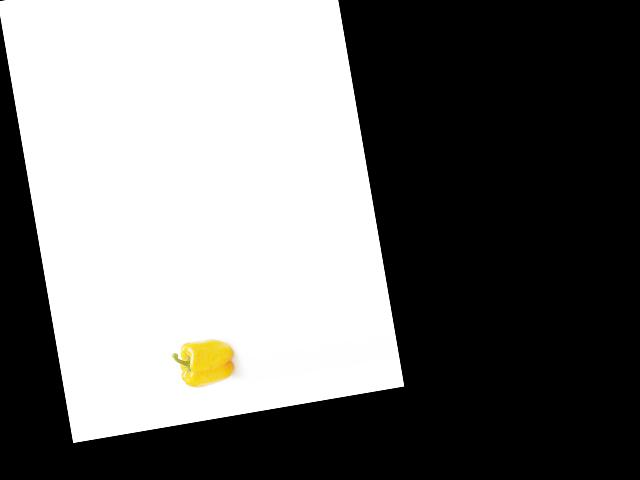bell_pepper: (166, 329, 238, 392)
